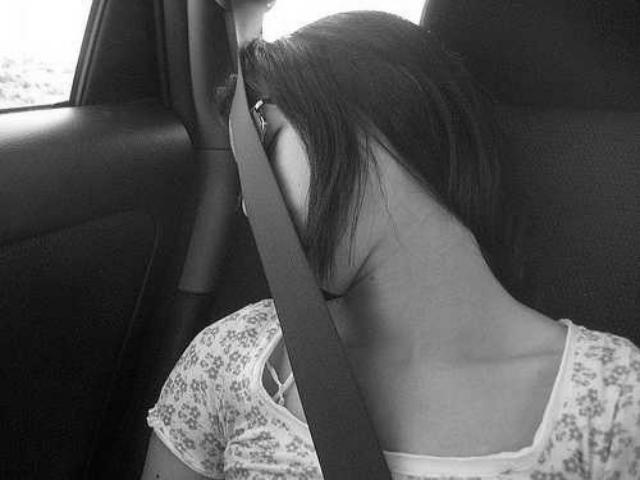Seatbelt: (224, 0, 396, 480)
